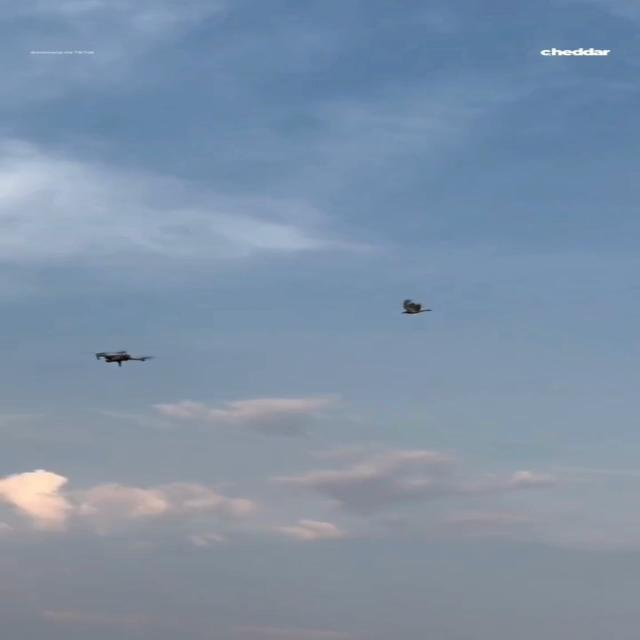bird: (400, 298, 431, 314)
drone: (93, 349, 152, 366)
